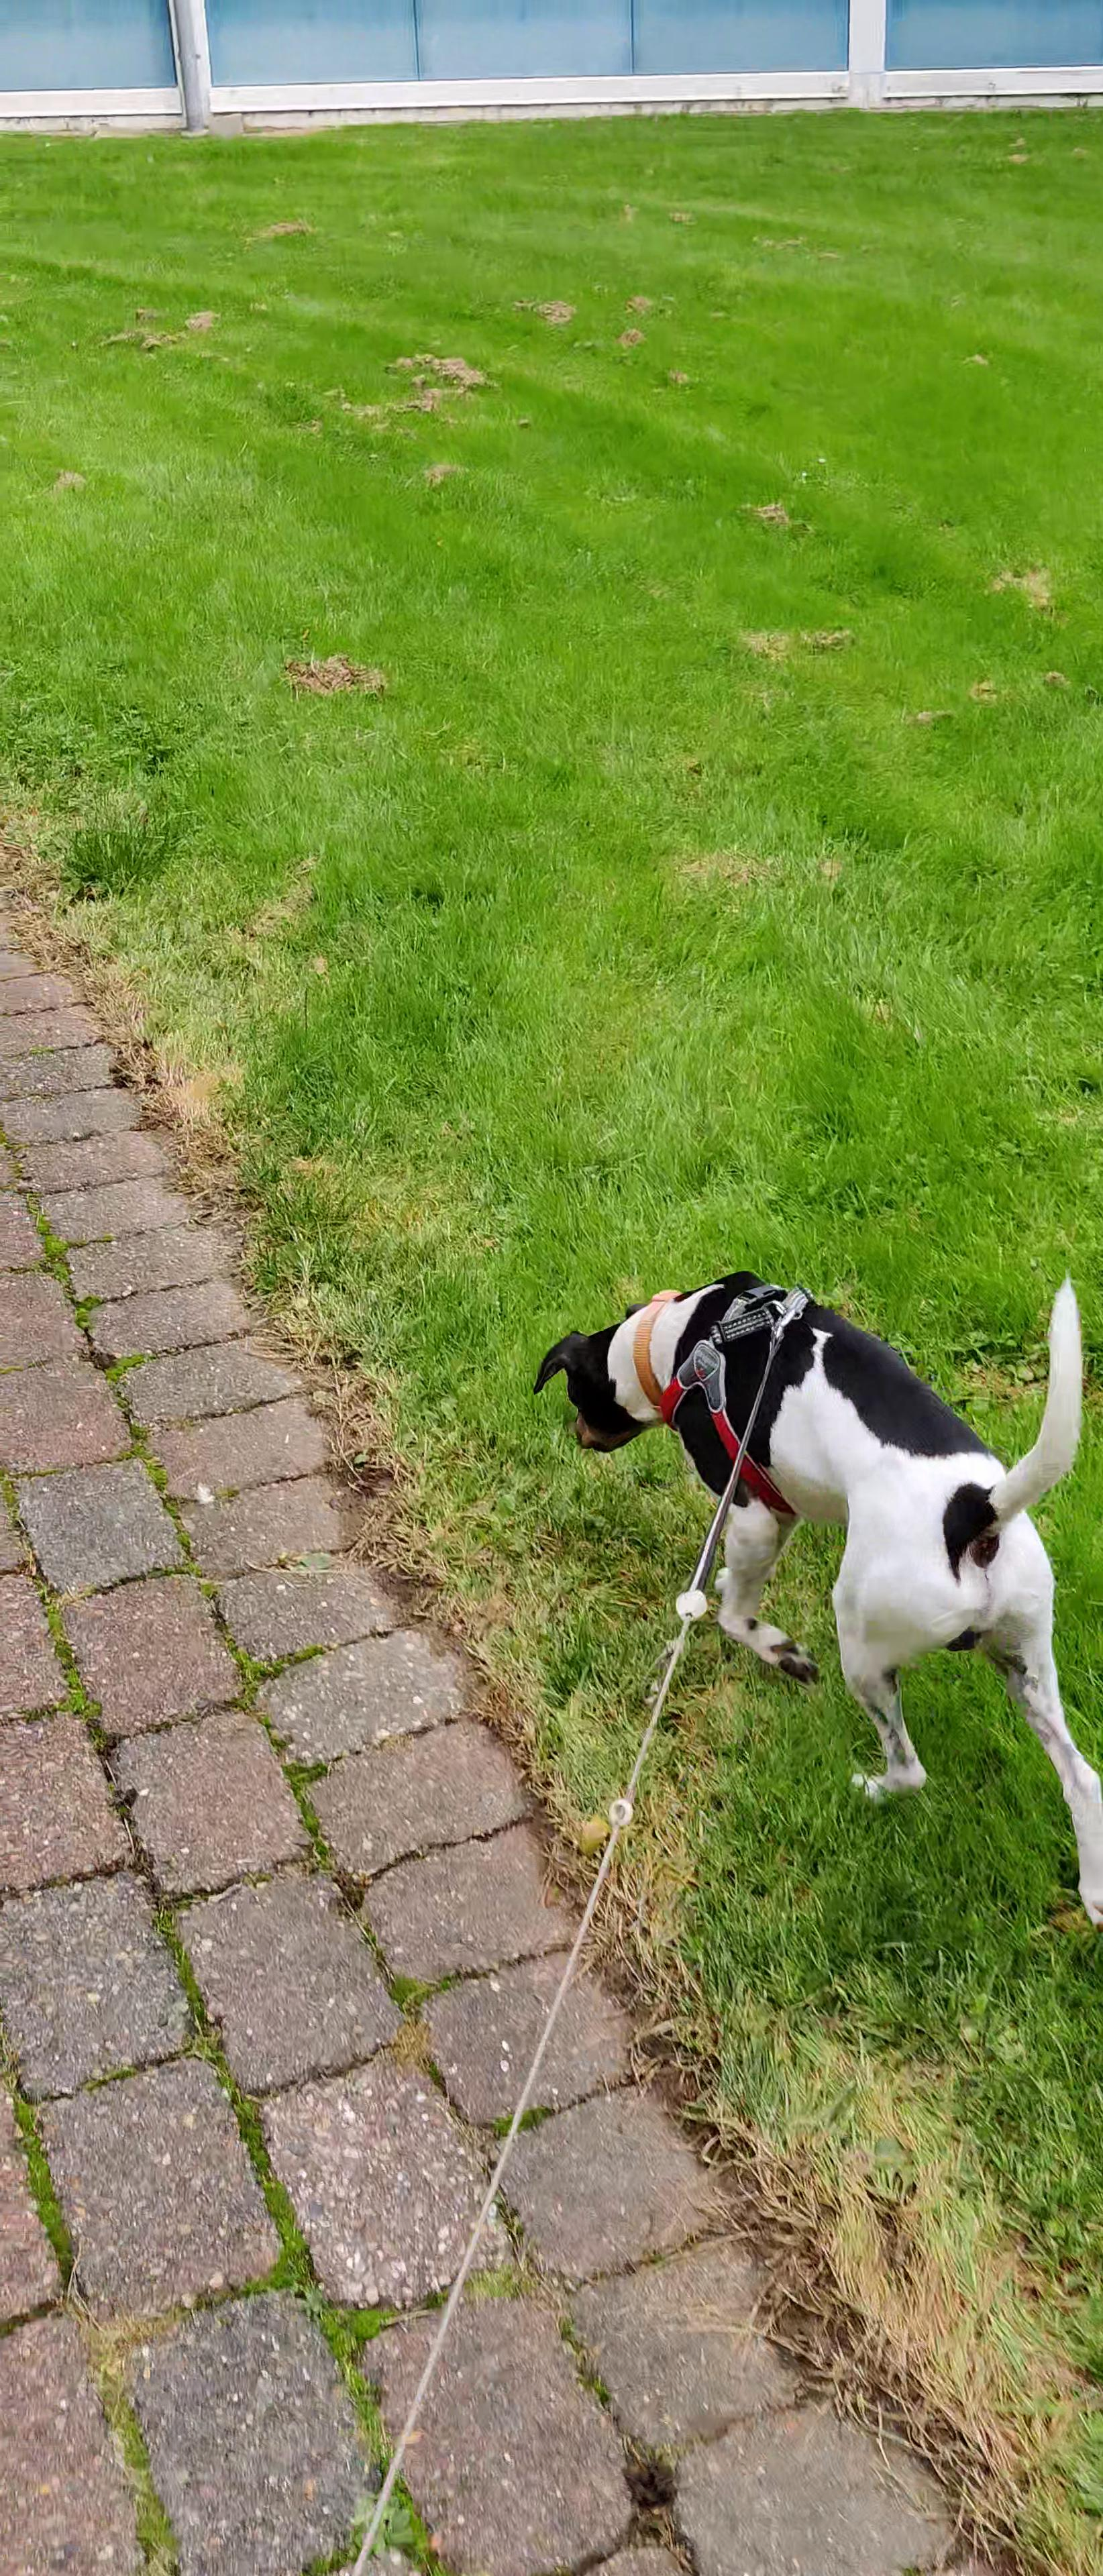Dog: (515, 1226, 1103, 1957)
